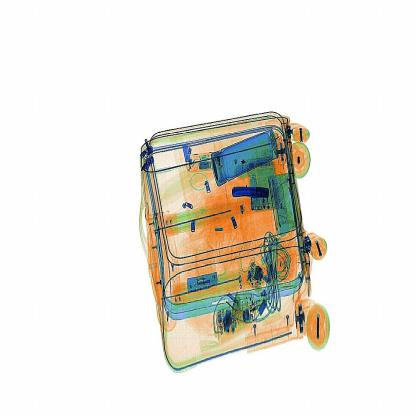knife: (230, 186, 274, 206)
